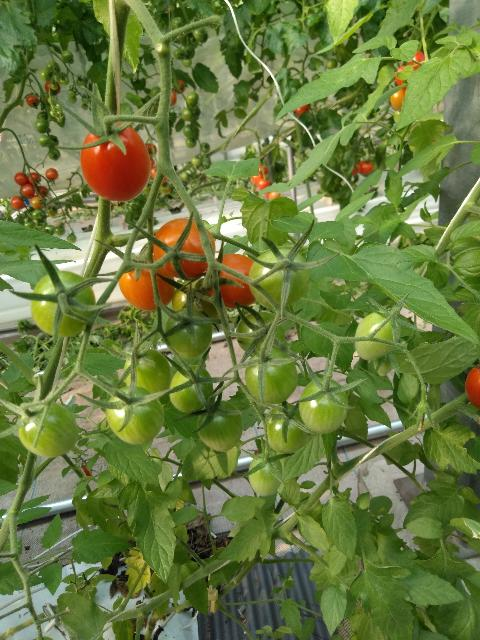l_fully_ripened: (80, 121, 150, 202), (465, 363, 480, 410)
l_green: (30, 269, 96, 338), (249, 248, 311, 308), (106, 386, 165, 445), (18, 401, 78, 457), (245, 347, 298, 404), (298, 377, 349, 435), (123, 348, 172, 404), (354, 309, 402, 361), (197, 400, 244, 453), (165, 309, 212, 359), (264, 401, 308, 454), (235, 311, 286, 356), (173, 277, 225, 321), (169, 363, 213, 414), (247, 452, 283, 496), (373, 349, 395, 376)
l_half_ripened: (152, 218, 215, 280), (118, 254, 175, 311), (205, 253, 255, 309)
